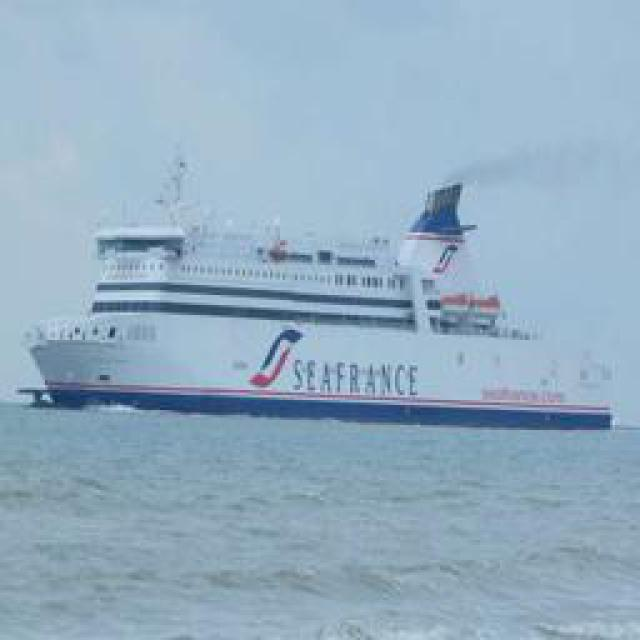Ship: (23, 172, 598, 405)
